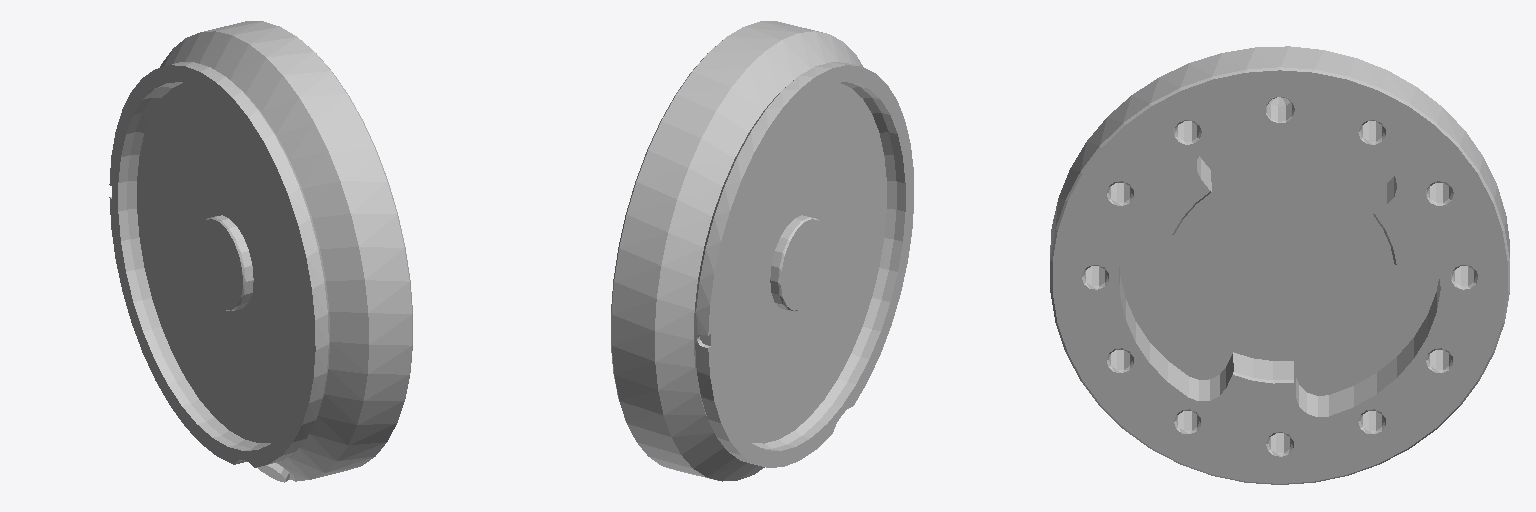
3 views of the same model, side by side, from view 1: azimuth 30°, elevation 25°; view 2: azimuth 150°, elevation 25°; view 3: azimuth 270°, elevation 25° (orthographic).
Visible parts, largest first — view 1: LINK_06 rawMesh; view 2: LINK_06 rawMesh; view 3: LINK_06 rawMesh.
Boxes of the visible parts, box(x1,y1,x2,y2) form: LINK_06 rawMesh: box(109, 21, 412, 482); LINK_06 rawMesh: box(611, 21, 913, 481); LINK_06 rawMesh: box(1050, 46, 1509, 484).
Bounding box in the file's own units: 4.35 × 20 × 19.99.